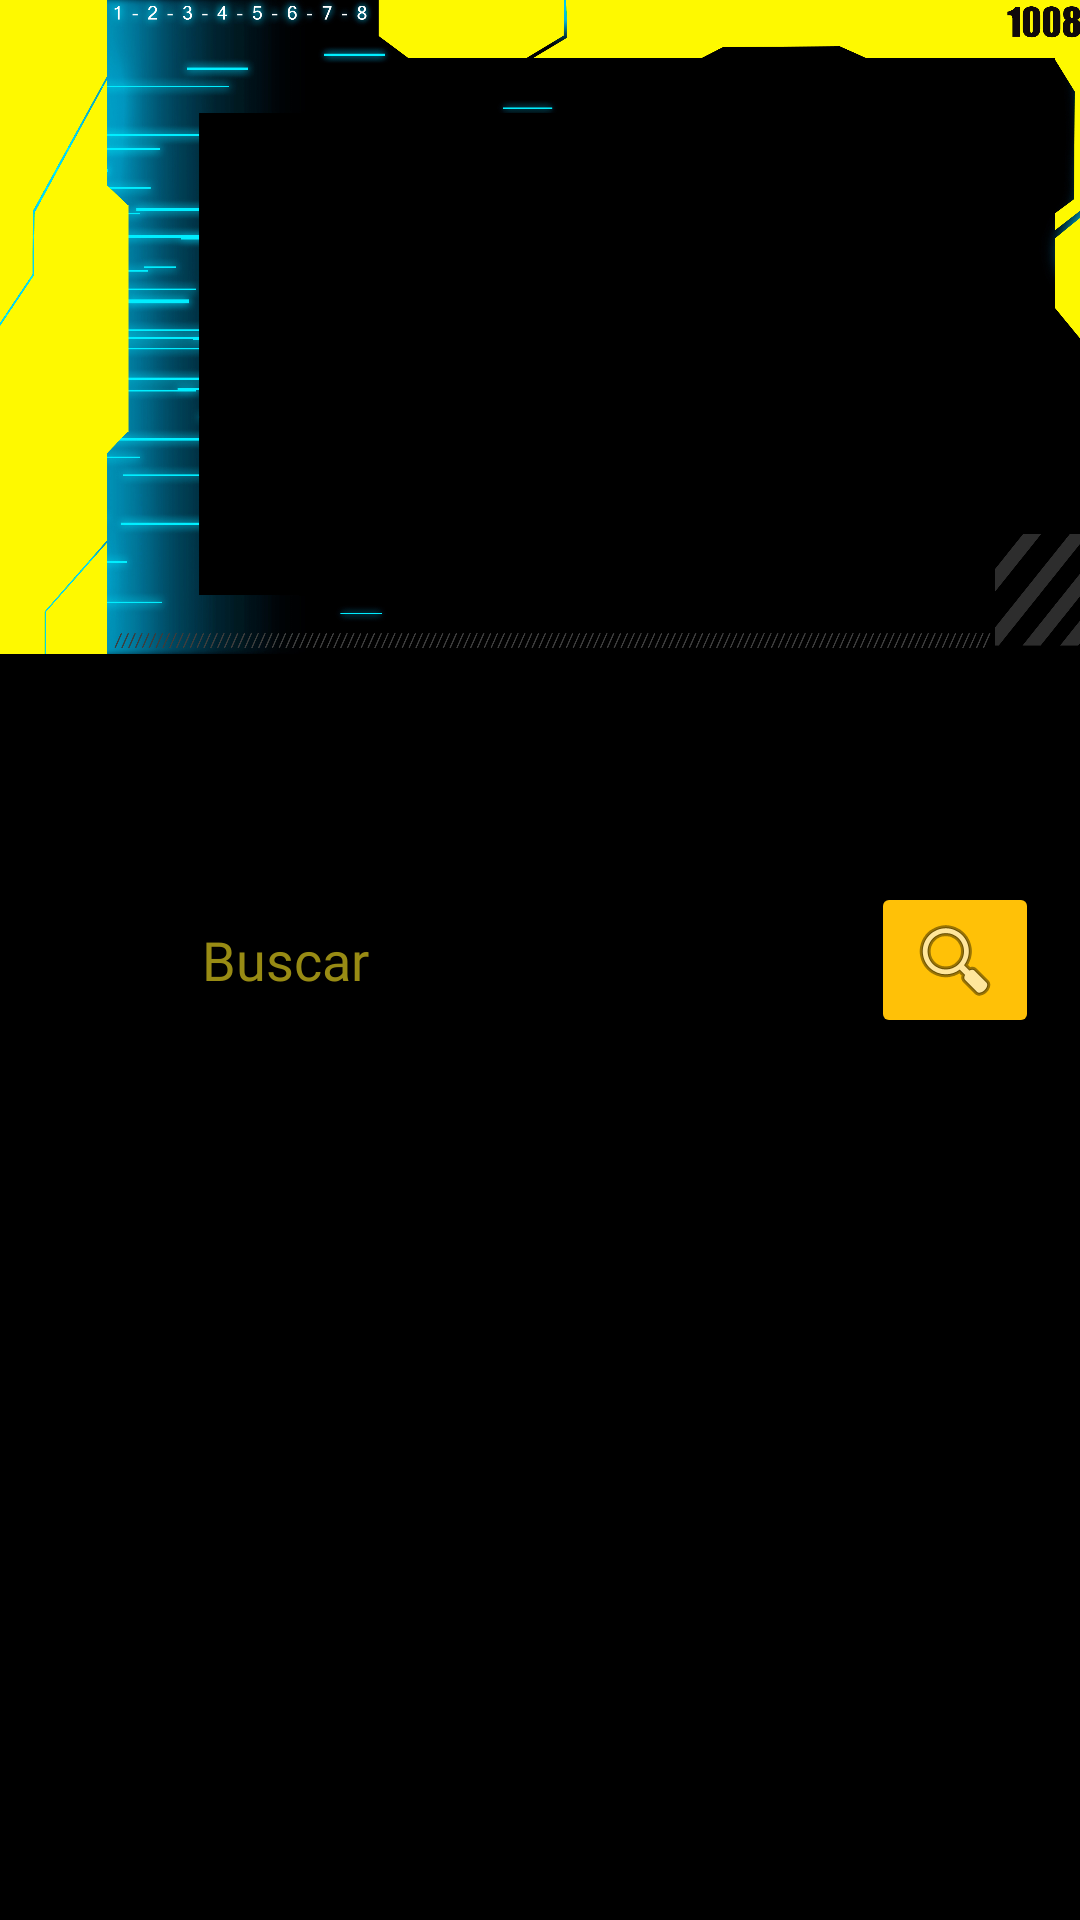

Named icons in this screenshot (1080*1920) and their centers, point (x, y):
search: point (955, 960)
